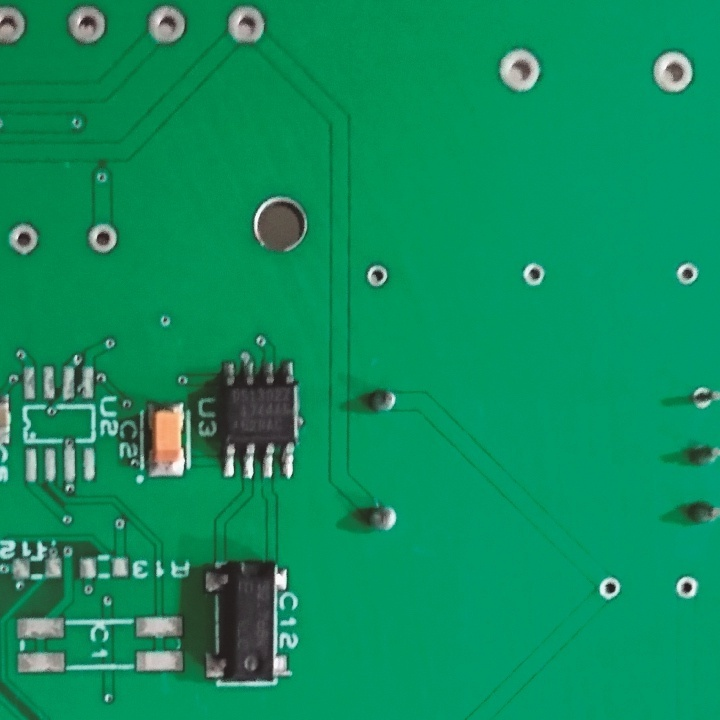F: (649, 45, 700, 97), (495, 46, 547, 95), (224, 3, 273, 49), (64, 5, 111, 47), (143, 4, 191, 44), (4, 220, 49, 257), (85, 220, 118, 258), (1, 4, 27, 46), (690, 383, 720, 415), (521, 261, 548, 290), (363, 263, 392, 286), (596, 576, 622, 601), (674, 575, 699, 600), (675, 263, 700, 286)
